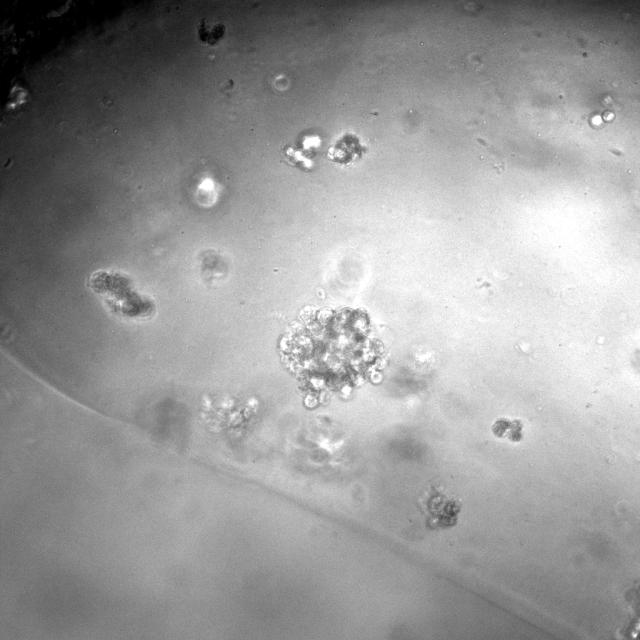organoid: (277, 306, 387, 409), (199, 394, 259, 445), (89, 270, 154, 317), (419, 485, 461, 528), (283, 134, 321, 170), (328, 133, 364, 165), (588, 95, 616, 128), (492, 418, 522, 441), (6, 83, 28, 110)
